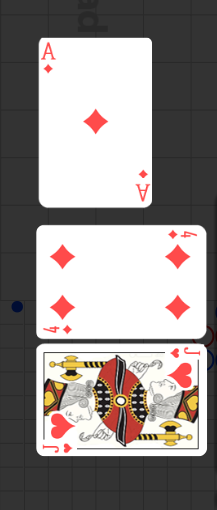4D: (42, 323, 74, 336)
AD: (42, 42, 58, 76)
JH: (42, 442, 74, 455)
